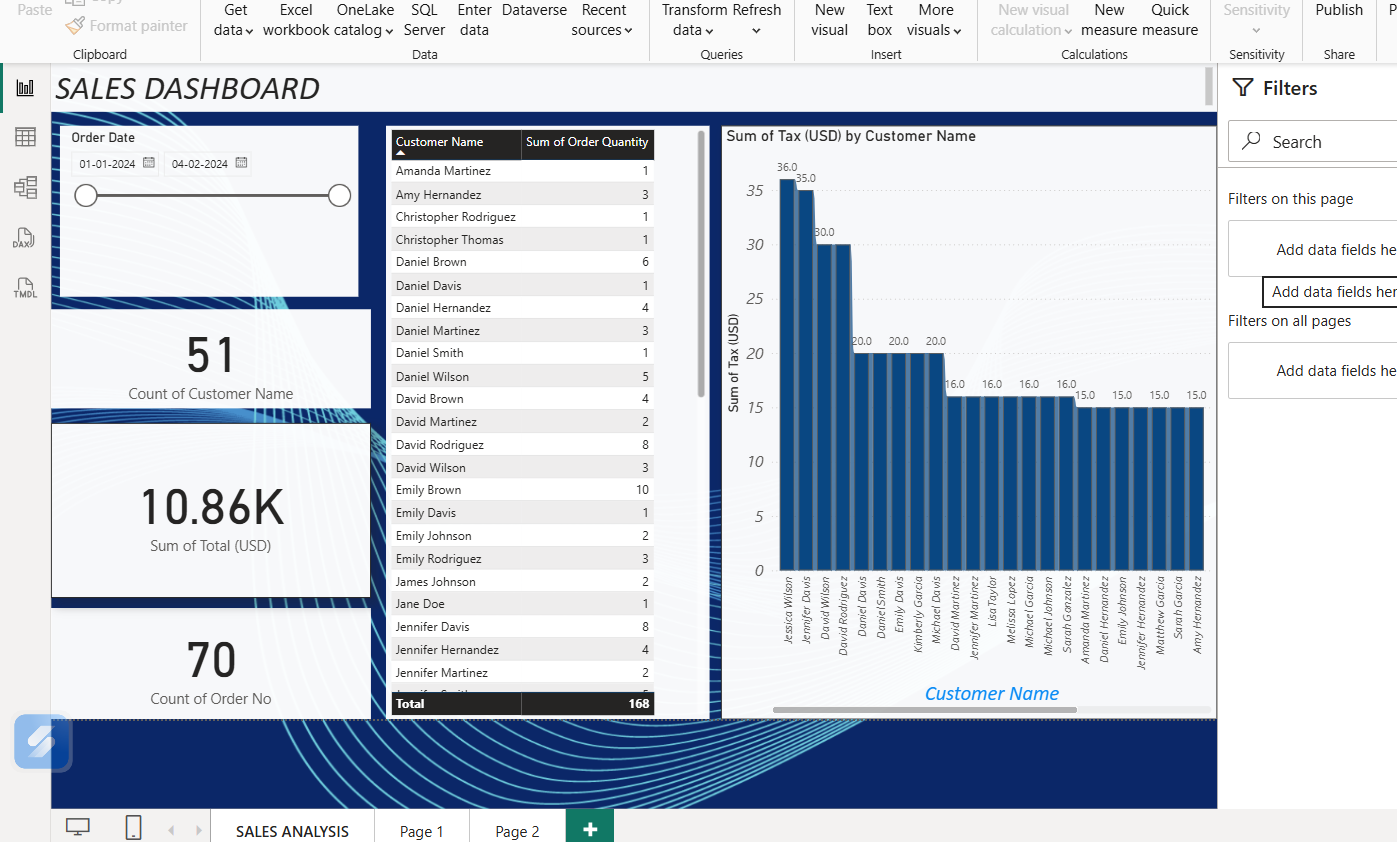

Layout of this report page (visuals, bound fields, positions):
{"tool":"powerbi","page":{"name":"SALES ANALYSIS ","canvas":[1280,720],"ordinal":0},"visuals":[{"type":"slicer","fields":{"Values":["Supermarket Sales Data (SuperMarket Sales).Order Date"]},"box":[9.6,68.6,328,188],"z":0},{"type":"textbox","box":[0,0,1280.3,53.5],"z":1000},{"type":"tableEx","fields":{"Values":["Supermarket Sales Data (SuperMarket Sales).Customer Name","Supermarket Sales Data (SuperMarket Sales).Order Quantity"]},"box":[367.8,68.6,355.4,651.8],"z":2000},{"type":"columnChart","fields":{"Category":["Supermarket Sales Data (SuperMarket Sales).Customer Name"],"Y":["Supermarket Sales Data (SuperMarket Sales).Tax (USD)"]},"box":[735.5,68.6,544.8,651.8],"z":3000},{"type":"card","fields":{"Values":["Supermarket Sales Data (SuperMarket Sales).Customer Name"]},"box":[0,270.3,351.3,108.4],"z":4000},{"type":"card","fields":{"Values":["Supermarket Sales Data (SuperMarket Sales).Order No"]},"box":[0,598.3,351.3,122.1],"z":5000},{"type":"card","fields":{"Values":["Supermarket Sales Data (SuperMarket Sales).Total (USD)"]},"box":[0,395.2,351.3,192.1],"z":6000}]}

Visuals, with their boxes on the page's 1280x720 design canvas (x1, y1, x2, y2). These are canvas units, not pixel positions in the 1397x842 screenshot, which may show the page scaled, cropped or inside an application window:
slicer - Supermarket Sales Data (SuperMarket Sales).Order Date: region(10, 69, 338, 257)
textbox: region(0, 0, 1280, 54)
tableEx - Supermarket Sales Data (SuperMarket Sales).Customer Name x Supermarket Sales Data (SuperMarket Sales).Order Quantity: region(368, 69, 723, 720)
columnChart - Supermarket Sales Data (SuperMarket Sales).Customer Name x Supermarket Sales Data (SuperMarket Sales).Tax (USD): region(736, 69, 1280, 720)
card - Supermarket Sales Data (SuperMarket Sales).Customer Name: region(0, 270, 351, 379)
card - Supermarket Sales Data (SuperMarket Sales).Order No: region(0, 598, 351, 720)
card - Supermarket Sales Data (SuperMarket Sales).Total (USD): region(0, 395, 351, 587)
